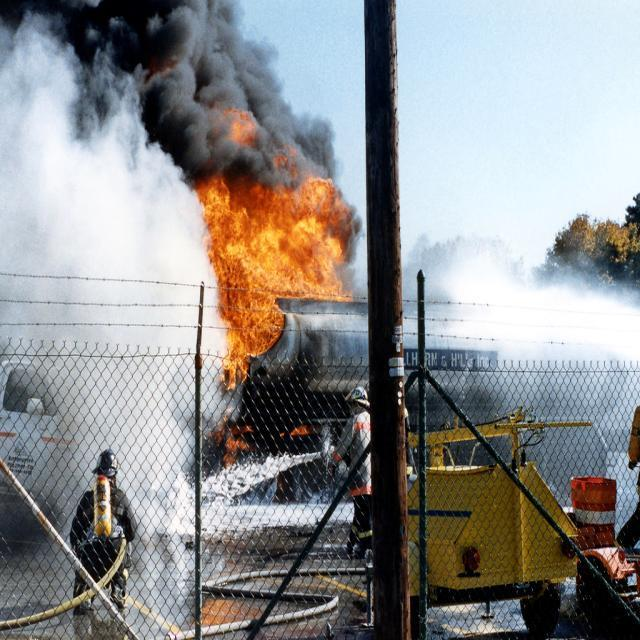Fire: (198, 168, 364, 383)
Smoke: (0, 0, 234, 444), (400, 100, 640, 472)
